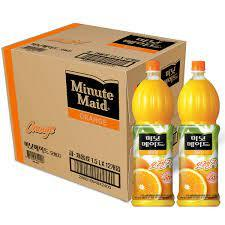minutemaid_org_orange: (173, 51, 224, 213), (126, 54, 177, 206)
